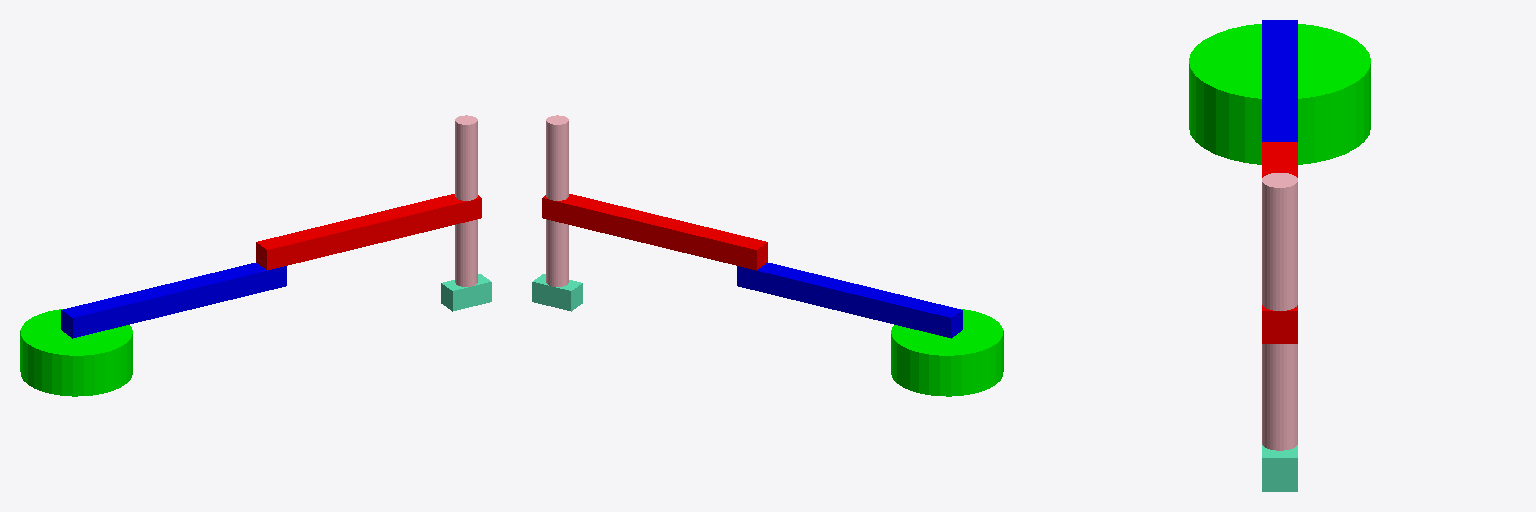
The robot description file, URDF, robot "double_pendulum":
<?xml version="1.0"?>
<robot name="double_pendulum" xmlns:xacro="http://www.ros.org/wiki/xacro">
  <!-- World link -->
  <link name="world"/>
  
  <!-- Link base (fijo) -->
  <link name="base_link">
      <visual>
          <origin xyz="0 0 0.02"/>
          <geometry>
              <cylinder radius="0.05" length="0.04"/>
          </geometry>
          <material name="green">
              <color rgba="0 1 0 1"/>
          </material>
      </visual>
      <collision>
          <origin xyz="0 0 0.02"/>
          <geometry>
              <cylinder radius="0.05" length="0.04"/>
          </geometry>
      </collision>
  </link>
  
  <!-- Primer eslabón -->
  <link name="link1">
      <visual>
          <origin xyz="0.1 0 0"/>
          <geometry>
              <box size="0.22 0.02 0.02"/>
          </geometry>
          <material name="blue">
              <color rgba="0 0 1 1"/>
          </material>
      </visual>
      <collision>
          <origin xyz="0.1 0 0"/>
          <geometry>
              <box size="0.2 0.02 0.02"/>
          </geometry>
      </collision>
  </link>

  <!-- Segundo eslabón -->
  <link name="link2">
      <visual>
          <origin xyz="0.1 0 0"/>
          <geometry>
              <box size="0.22 0.02 0.02"/>
          </geometry>
          <material name="red">
              <color rgba="1 0 0 1"/>
          </material>
      </visual>
      <collision>
          <origin xyz="0.1 0 0"/>
          <geometry>
              <box size="0.2 0.02 0.02"/>
          </geometry>
      </collision>
  </link>

  <!-- Tercer link: cilindro - brazo -->
  <link name="link3">
      <visual>
          <origin xyz="0 0 0"/>
          <geometry>
              <cylinder radius="0.01" length="0.169"/>
          </geometry>
          <material name="pink">
              <color rgba="1 0.75 0.79 1"/>
          </material>
      </visual>
      <collision>
          <origin xyz="0.1 0 0"/>
          <geometry>
              <box size="0 0 -0.169"/>
          </geometry>
      </collision>
  </link>

  <!-- Tercer link: brazo - rotacion -->
  <link name="link4">
      <visual>
          <origin xyz="0 0 0"/>
          <geometry>
              <box size="0.04 0.02 0.02"/>
          </geometry>
          <material name="lightblue">
              <color rgba="0.4 0.95 0.76 1"/>
          </material>
      </visual>
      <collision>
          <origin xyz="0.1 0 0"/>
          <geometry>
              <box size="0 0 0"/>
          </geometry>
      </collision>
  </link>
  
  <!--******************* DEFINICIONES DE JUNTAS  *******************-->
  <!-- Junta fija entre world y base_link -->
  <joint name="fixed" type="fixed">
      <parent link="world"/>
      <child link="base_link"/>
      <origin xyz="0.2 0 0" rpy="0 0 0"/>
  </joint>
  
  <!-- Junta entre base y link1 -->
  <joint name="joint1" type="revolute">
      <parent link="base_link"/>
      <child link="link1"/>
      <origin xyz="0 0 0.05"/>
      <axis xyz="0 0 1"/>
      <limit effort="1000" lower="-3.14" upper="3.14" velocity="5"/>
  </joint>
  
  <!-- Junta entre link1 y link2 -->
  <joint name="joint2" type="revolute">
      <parent link="link1"/>
      <child link="link2"/>
      <origin xyz="0.2 0 0.02"/>
      <axis xyz="0 0 1"/>
      <limit effort="1000" lower="-3.14" upper="3.14" velocity="5"/>
  </joint>

  <!-- Junta entre link2 y link3 -->
  <joint name="joint3" type="prismatic">
      <parent link="link2"/>
      <child link="link3"/>
      <origin xyz="0.2 0 0"/>
      <axis xyz="0 0 1"/>
      <limit effort="1000" lower="-0.0845" upper="0.065" velocity="1"/>
  </joint>

  <!-- Junta entre link3 y link4 -->
  <joint name="joint4" type="revolute">
      <parent link="link3"/>
      <child link="link4"/>
      <origin xyz="0 0 -0.0845"/>
      <axis xyz="0 0 1"/>
      <limit effort="1000" lower="-3.14" upper="3.14" velocity="5"/>
  </joint>
</robot>

--- What the picture shows (computed from the rendered views, not written in the file) ---
Views: 3 orthographic renders of the robot side by side, from view 1: azimuth 30°, elevation 25°; view 2: azimuth 150°, elevation 25°; view 3: azimuth 270°, elevation 25°.
Model double_pendulum with 6 links and 5 joints (3 revolute, 1 prismatic, 1 fixed), rooted at world, posed all joints at 0.
Links seen in each view (by area): view 1: base_link, link2, link1, link3, link4; view 2: base_link, link2, link1, link3, link4; view 3: base_link, link3, link1, link2, link4.
Boxes of the visible links, x1,y1,x2,y2 form: base_link: (20, 309, 132, 396); link2: (256, 194, 481, 270); link1: (61, 263, 286, 338); link3: (455, 115, 477, 286); link4: (441, 274, 491, 311); base_link: (891, 309, 1003, 396); link2: (542, 194, 767, 270); link1: (737, 263, 962, 338); link3: (546, 115, 568, 286); link4: (532, 274, 582, 311); base_link: (1189, 24, 1370, 164); link3: (1262, 173, 1297, 450); link1: (1262, 20, 1297, 141); link2: (1262, 142, 1297, 343); link4: (1262, 445, 1297, 491).
Bounding box of the posed robot: 0.47 × 0.1 × 0.179 m (x, y, z).
Geometry: primitives only (box / cylinder / sphere), no mesh files.
